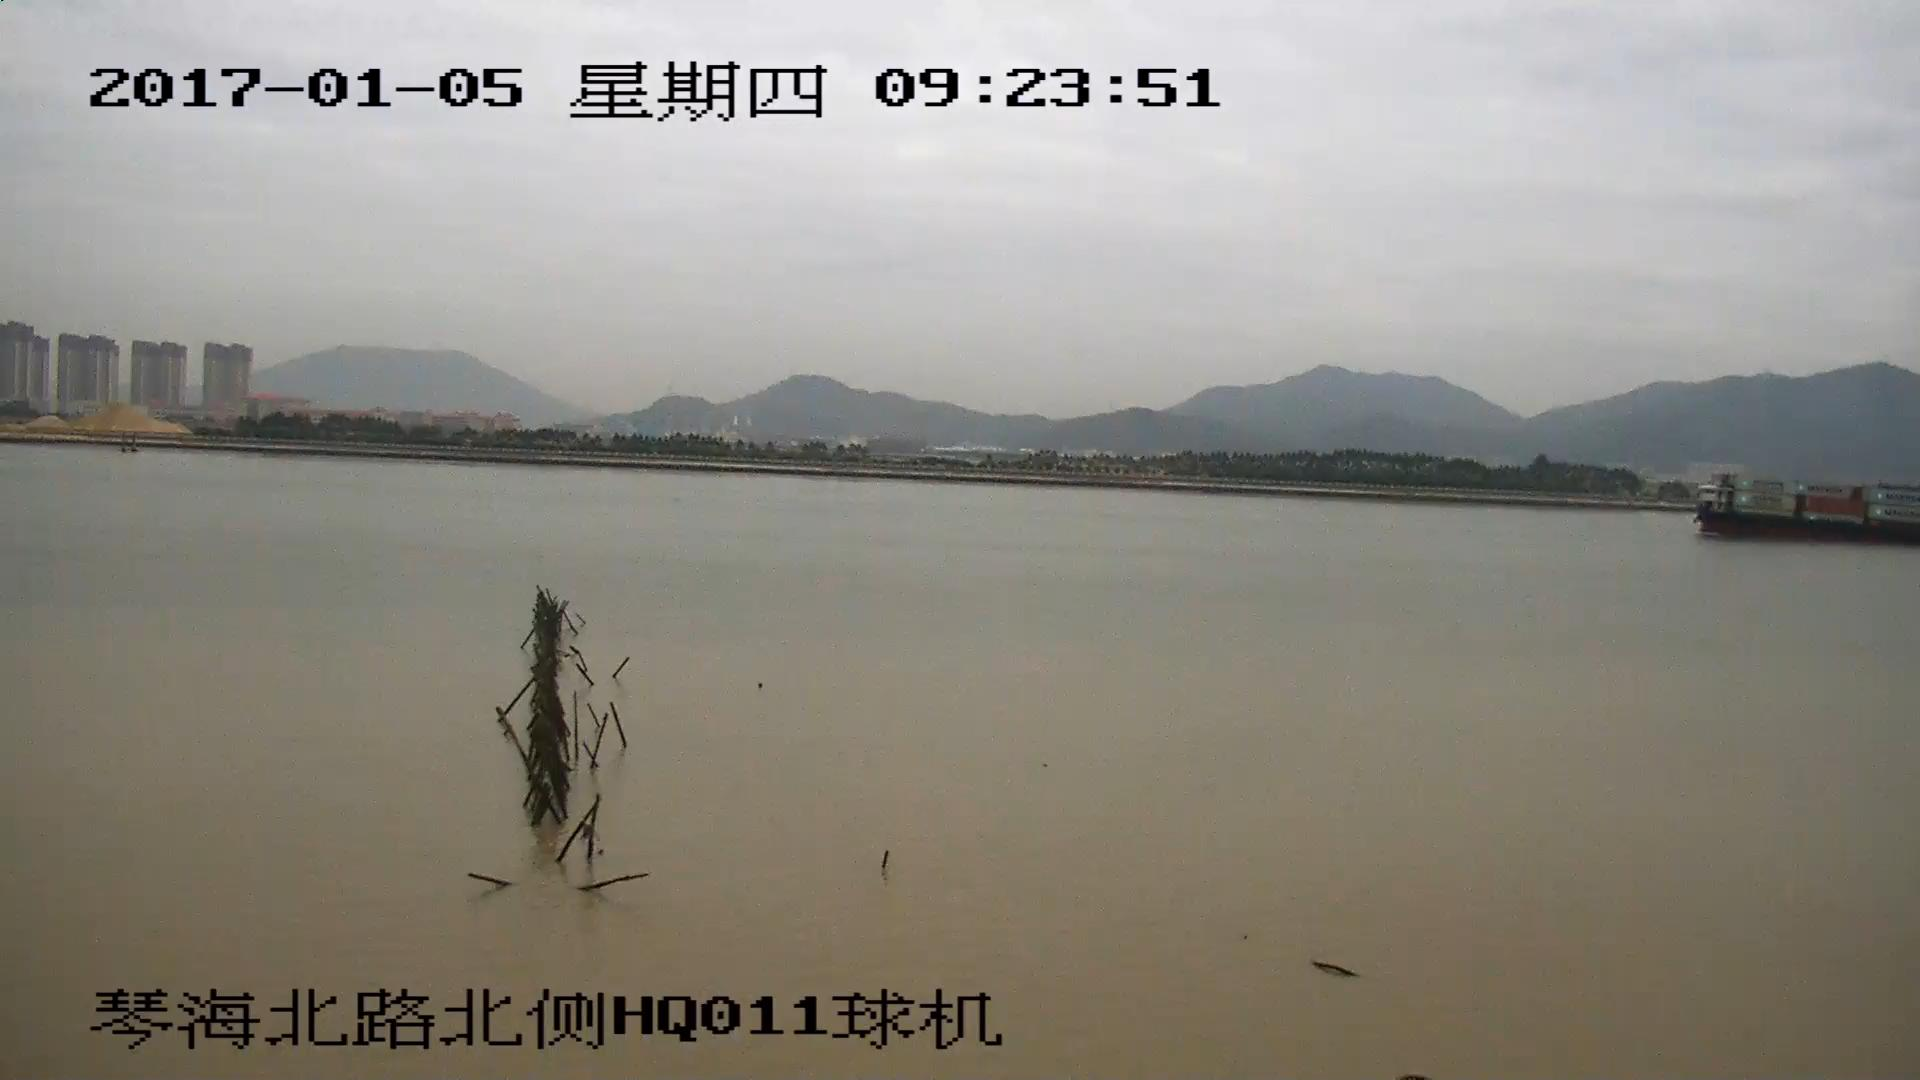container ship: (1691, 476, 1920, 543)
